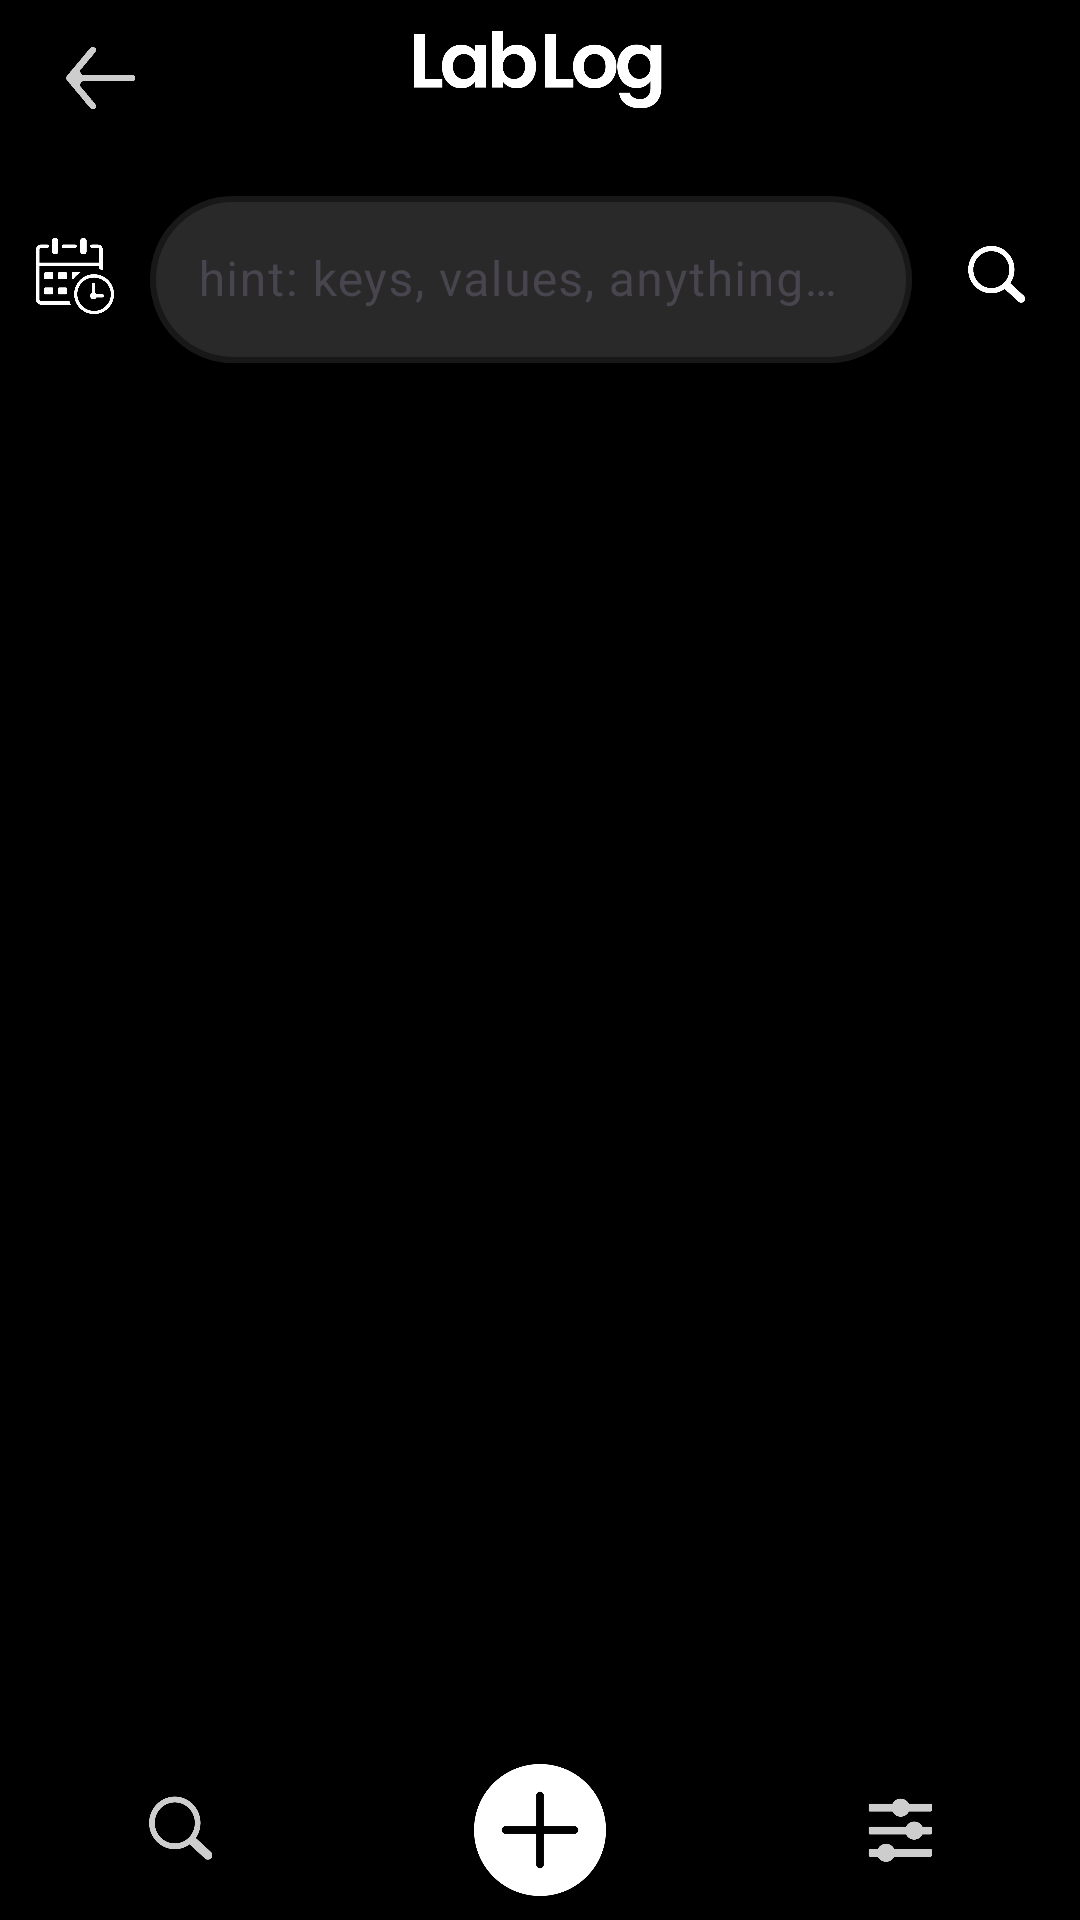

Locate icon controls on the screen. Image size 1080×1920, boxes as (x1, y1, x2, y2).
back icon: (66, 47, 135, 109)
date icon: (36, 238, 114, 314)
search icon: (968, 246, 1025, 303), (149, 1796, 212, 1860)
settings icon: (869, 1799, 932, 1862)
